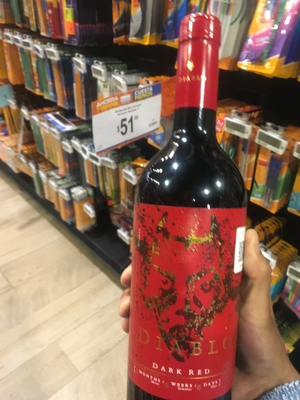diablo dark red: (127, 22, 260, 400)
